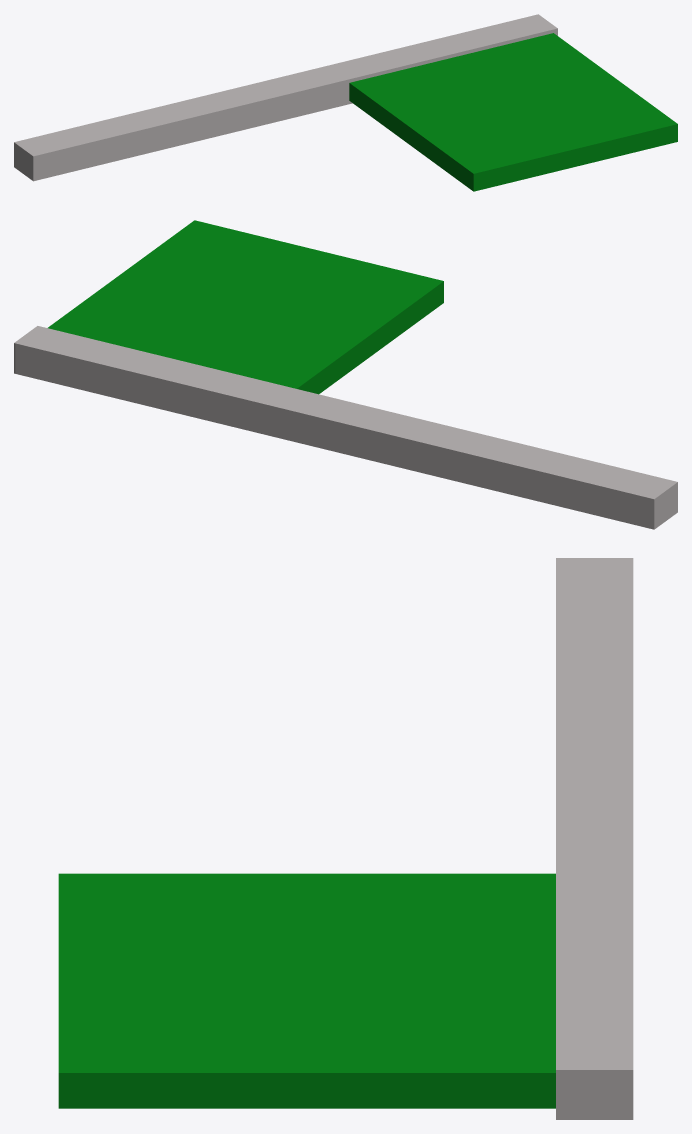
The model's file is flag_green.glb.
3 views of the same model, one above another, from view 1: azimuth 30°, elevation 25°; view 2: azimuth 150°, elevation 25°; view 3: azimuth 270°, elevation 25° (orthographic). The views are drawn at different scales.
Parts seen in each view (by area): view 1: Cube; view 2: Cube; view 3: Cube.
Boxes of the visible parts, box(x1,y1,x2,y2) form: Cube: box(14, 14, 677, 191); Cube: box(14, 220, 677, 529); Cube: box(58, 558, 633, 1119).
Size of the model in its own units: 4.54 by 0.2062 by 2.15.
1 material, 1 textured.
